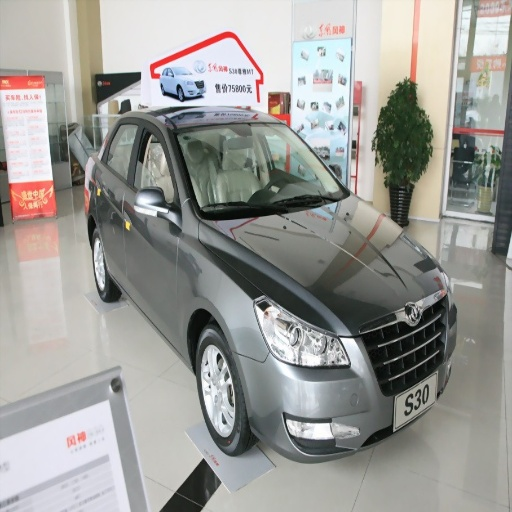front_bumper: (238, 296, 448, 459)
front_right_door: (126, 121, 180, 347)
front_right_light: (254, 296, 349, 366)
